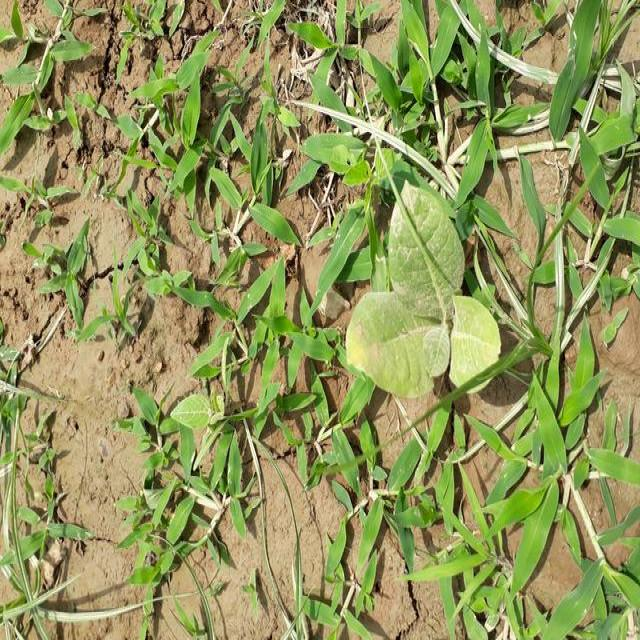crop: (345, 180, 503, 400)
